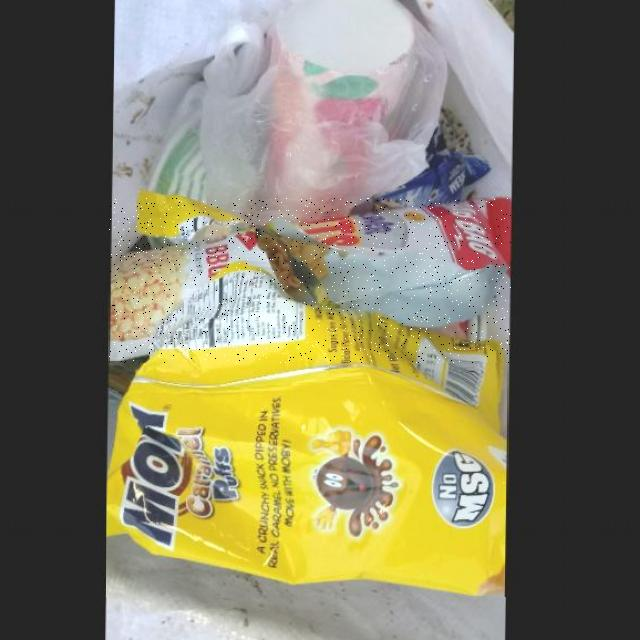wrapper: (107, 267, 508, 596), (109, 198, 511, 362)
